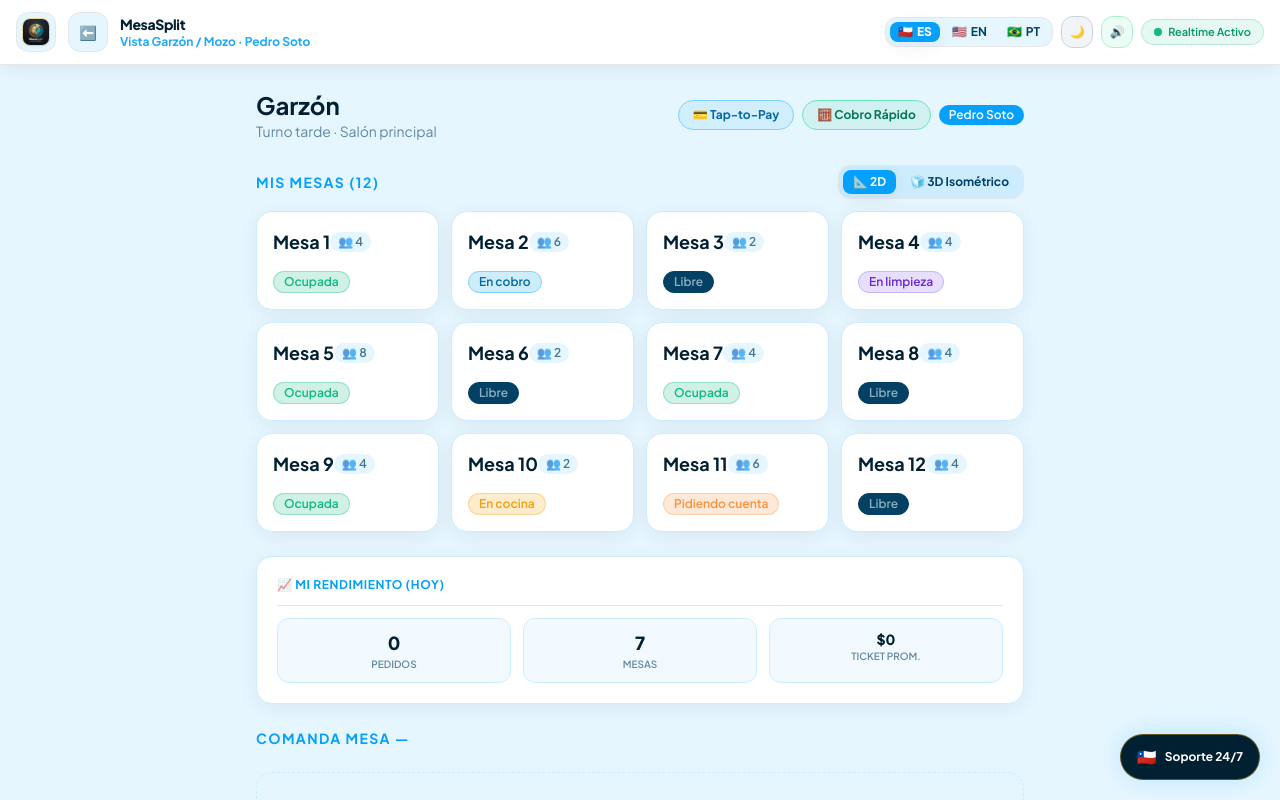
Scenario: waiter-interactive-tables: Modal de Consumo (consumption-modal + no-order-no-modal) › consumption-modal sc.1: click en mesa ocupada con comanda abre el modal con las líneas de order
Expected: the heading "Mis mesas (12)" is shown, x1=256 y1=172 x2=379 y2=192
# Click en la Mesa 1 (t1: occupied con order de 2 líneas).
Click the text "Mesa 1".
click(302, 242)  # box x1=273 y1=228 x2=330 y2=256
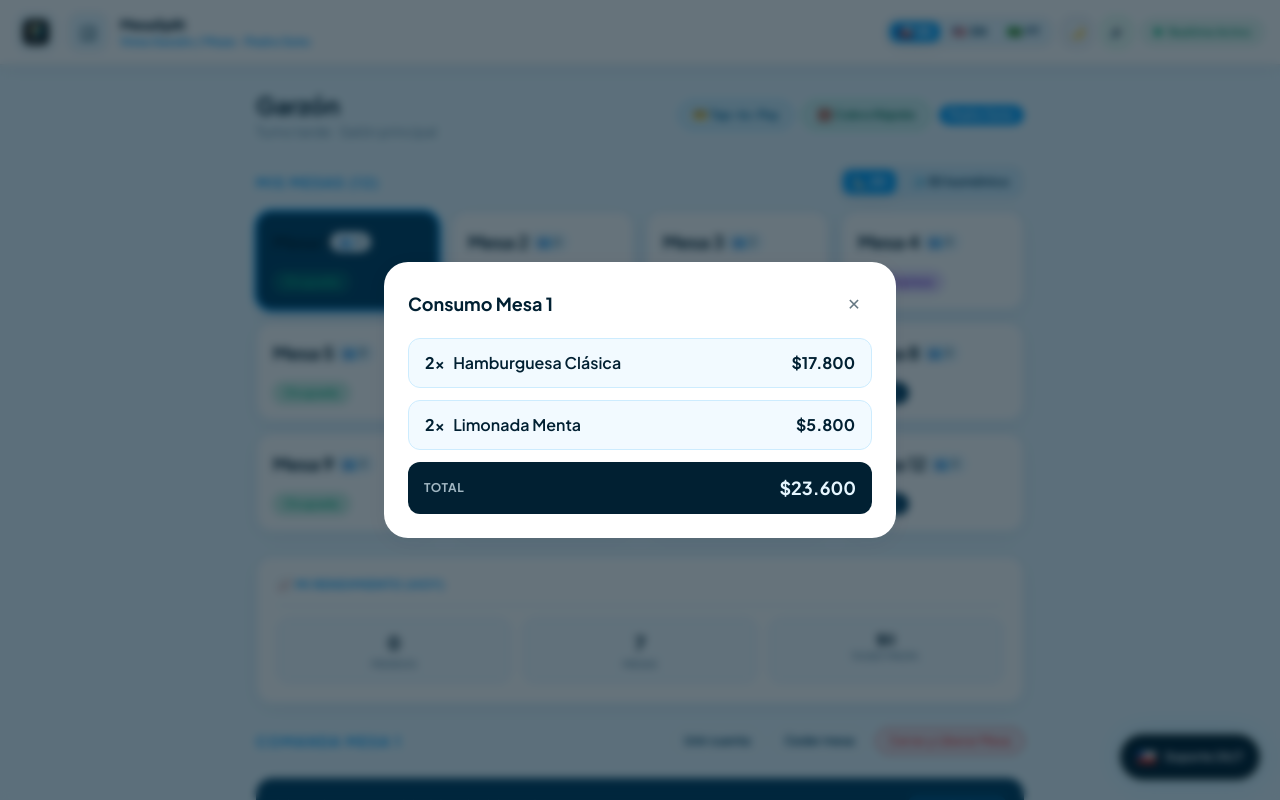
Now the dialog is shown, box x1=384 y1=262 x2=896 y2=538
Now the text "Hamburguesa Clásica" is shown, box x1=453 y1=351 x2=621 y2=375
Now the text "Limonada Menta" is shown, box x1=453 y1=413 x2=581 y2=437
